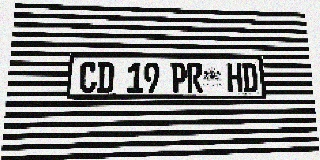1: (127, 62, 143, 93)
9: (144, 62, 160, 93)
C: (79, 62, 97, 93)
D: (97, 62, 114, 93), (242, 63, 258, 92)
H: (226, 63, 243, 92)
P: (171, 63, 187, 93)
R: (187, 63, 203, 92)
